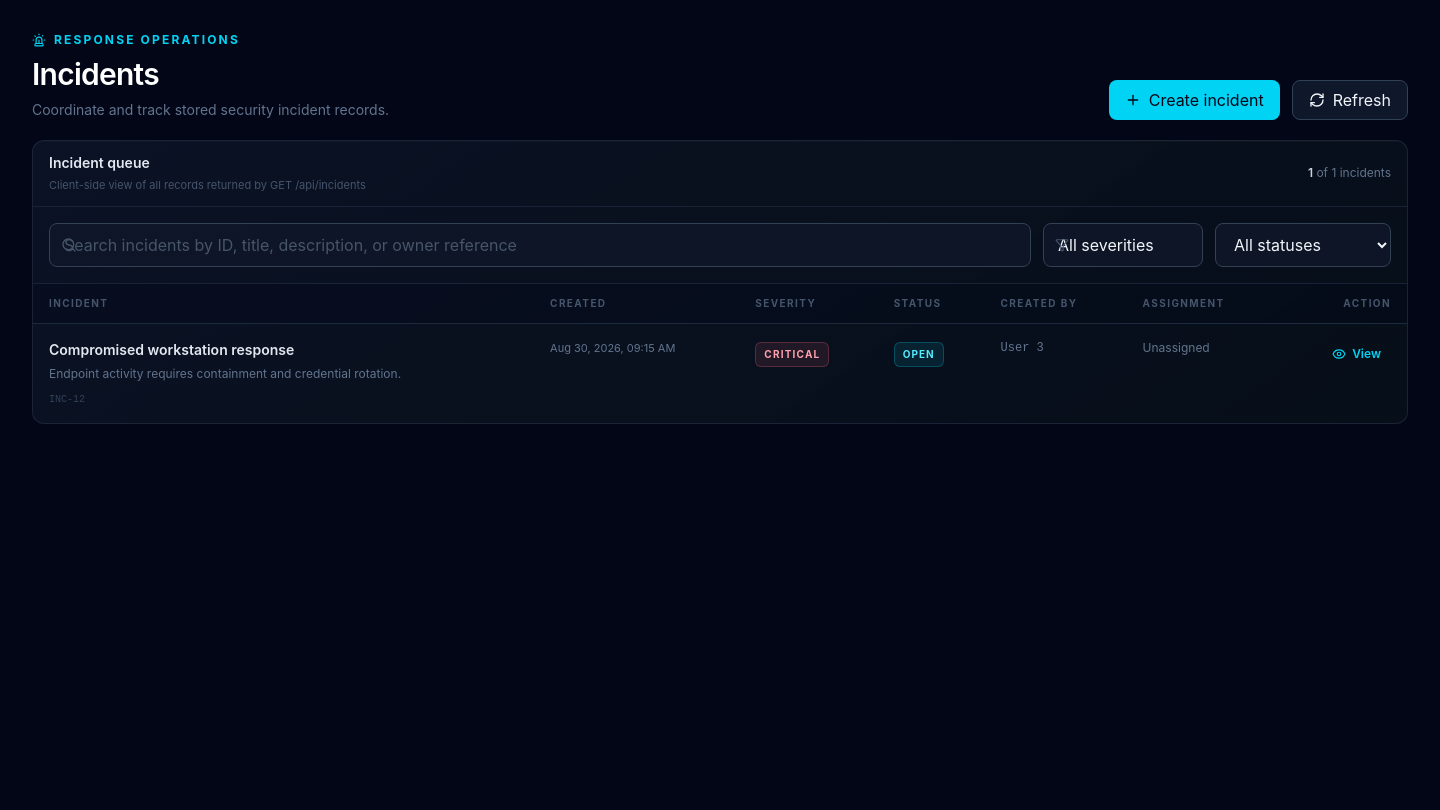
Scenario: IncidentsPage › updates incident status
The width and height of the screenshot is (1440, 810).
Click the button with aria-label "Open incident 12" at (172, 349), box [33,323,1407,422]
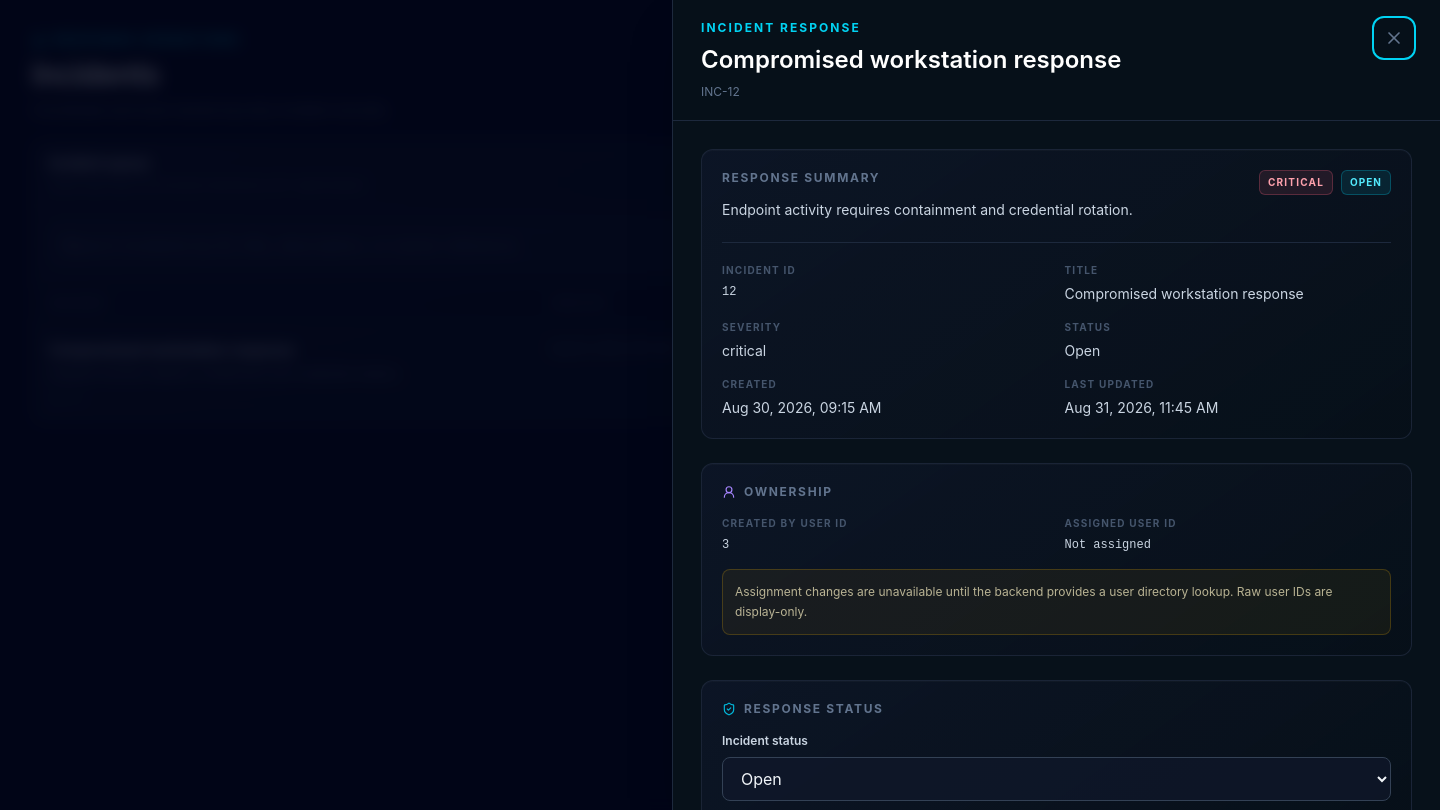
Select "Contained" in the dropdown labelled "Incident status" at (1056, 779), box [722,757,1391,801]
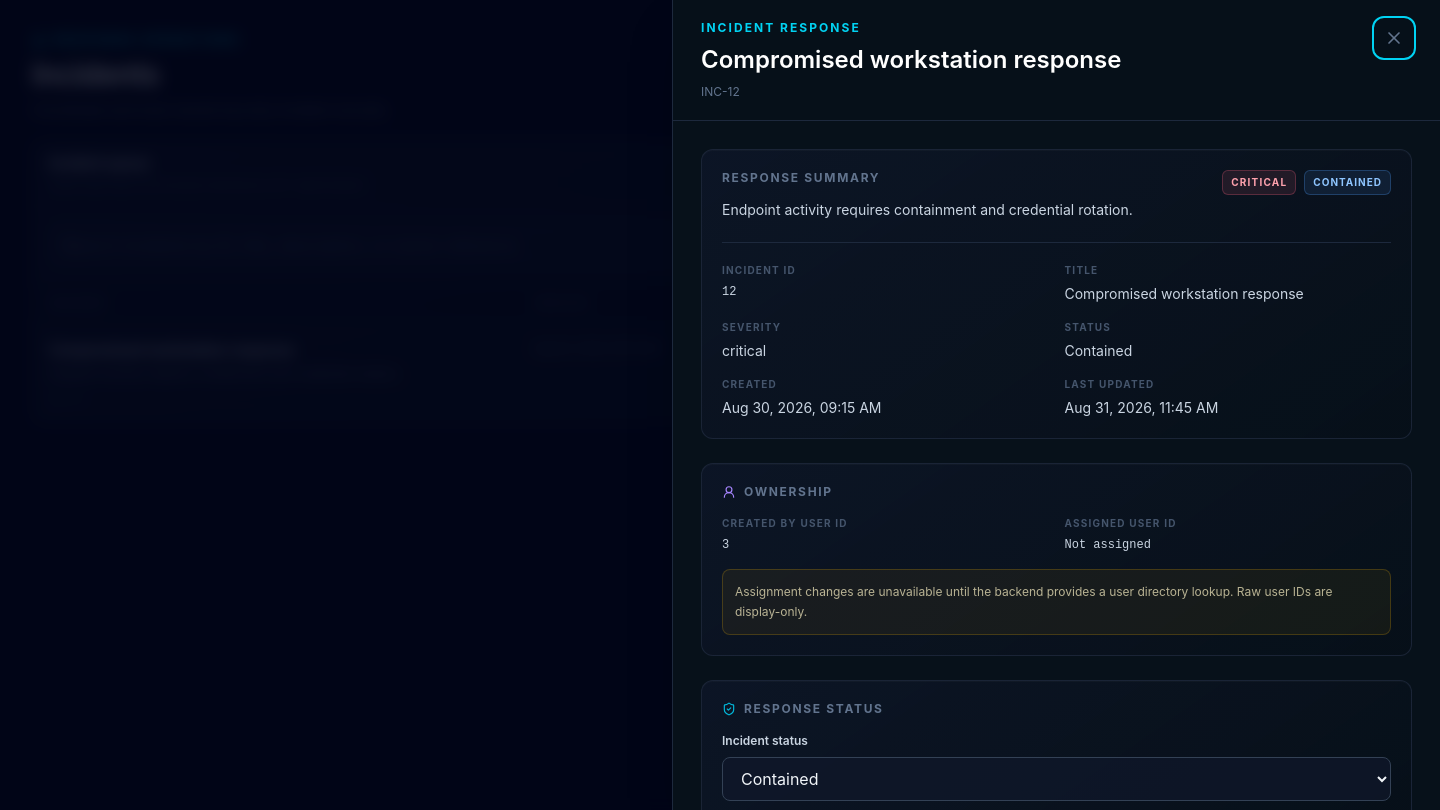
expect the dialog shows "Contained": met, box [1313,176,1382,188]
